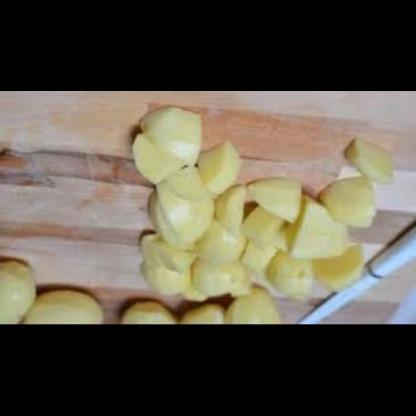potato: (129, 106, 399, 299), (24, 287, 110, 325), (0, 258, 44, 325), (230, 288, 285, 325), (121, 294, 180, 326), (176, 302, 230, 326)
